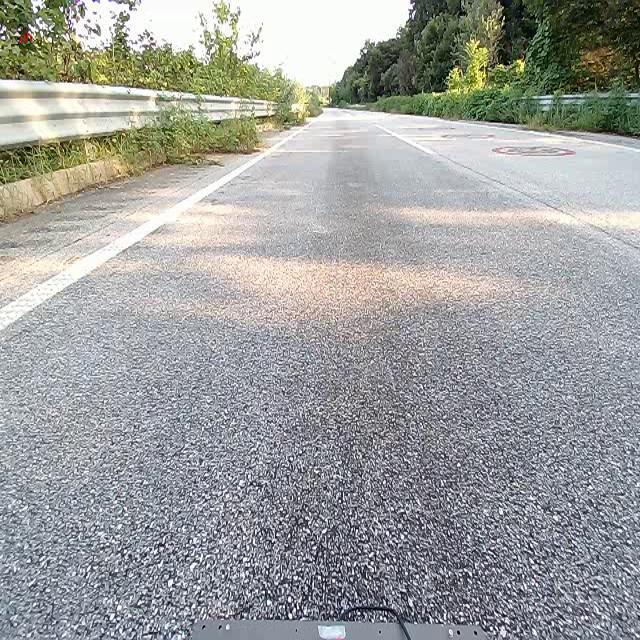Lane: (0, 129, 298, 339), (0, 130, 299, 332)
